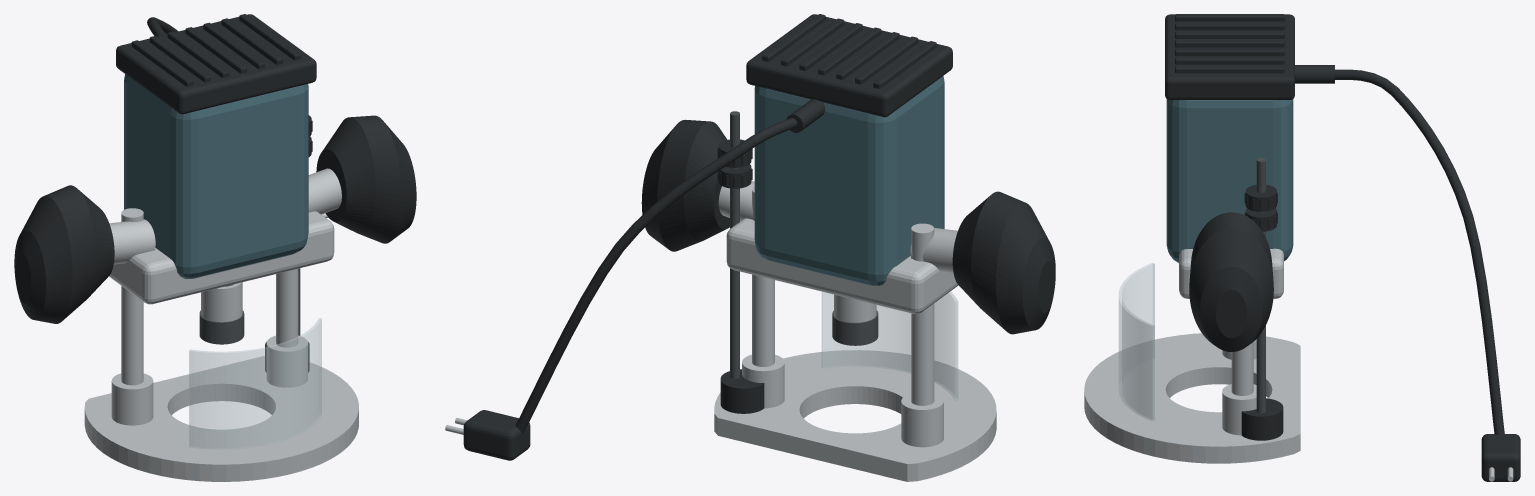
The model's file is full.glb.
3 views of the same model, side by side, from view 1: azimuth 30°, elevation 25°; view 2: azimuth 150°, elevation 25°; view 3: azimuth 270°, elevation 25° (orthographic). The views are drawn at different scales.
Parts seen in each view (by area): view 1: Tall rounded motor housing, D base with circular opening, Curved front chip guard, Curved side palm grip -1, Curved side palm grip 1, Flat ribbed top cover, Raised motor carriage, Plunge guide column -1, Column base socket -1, Column base socket 1, Plunge guide column 1, Grip mounting neck -1 (+10 smaller); view 2: Tall rounded motor housing, D base with circular opening, Curved side palm grip -1, Flat ribbed top cover, Curved side palm grip 1, Raised motor carriage, Curved front chip guard, Complete generic cord, Plunge guide column -1, Generic complete plug, Plunge guide column 1, Column base socket -1 (+15 smaller); view 3: D base with circular opening, Tall rounded motor housing, Curved side palm grip 1, Flat ribbed top cover, Curved front chip guard, Complete generic cord, Generic complete plug, Small rotary stop, Threadlike depth stop rod, Column base socket 1, Raised motor carriage, Plunge guide column 1 (+9 smaller).
Boxes of the visible parts, x1,y1,x2,y2 form: Tall rounded motor housing: (124, 74, 308, 278); D base with circular opening: (84, 356, 358, 481); Curved front chip guard: (189, 318, 321, 449); Curved side palm grip -1: (14, 185, 114, 323); Curved side palm grip 1: (316, 115, 416, 243); Flat ribbed top cover: (116, 14, 316, 114); Raised motor carriage: (109, 211, 334, 304); Plunge guide column -1: (121, 208, 143, 385); Column base socket -1: (111, 373, 153, 425); Column base socket 1: (266, 335, 307, 387); Plunge guide column 1: (276, 269, 298, 347); Grip mounting neck -1: (109, 219, 155, 264); Tall rounded motor housing: (754, 76, 944, 285); D base with circular opening: (714, 350, 996, 481); Curved side palm grip -1: (952, 191, 1055, 334); Flat ribbed top cover: (746, 14, 952, 117); Curved side palm grip 1: (641, 119, 729, 251); Raised motor carriage: (726, 218, 958, 313); Curved front chip guard: (822, 291, 957, 400); Complete generic cord: (515, 118, 797, 433); Plunge guide column -1: (911, 223, 934, 405); Generic complete plug: (463, 410, 530, 460); Plunge guide column 1: (752, 186, 774, 366); Column base socket -1: (901, 393, 943, 447); D base with circular opening: (1084, 333, 1300, 463); Tall rounded motor housing: (1166, 99, 1293, 262); Curved side palm grip 1: (1189, 212, 1273, 351); Flat ribbed top cover: (1165, 14, 1294, 99); Curved front chip guard: (1119, 263, 1154, 420); Complete generic cord: (1335, 69, 1504, 435); Generic complete plug: (1481, 434, 1520, 481); Small rotary stop: (1241, 398, 1283, 440); Threadlike depth stop rod: (1256, 158, 1265, 413); Column base socket 1: (1222, 384, 1256, 435); Raised motor carriage: (1179, 248, 1283, 298); Plunge guide column 1: (1231, 342, 1253, 395).
Size of the model in its own units: 0.319 by 0.2575 by 0.2785.
